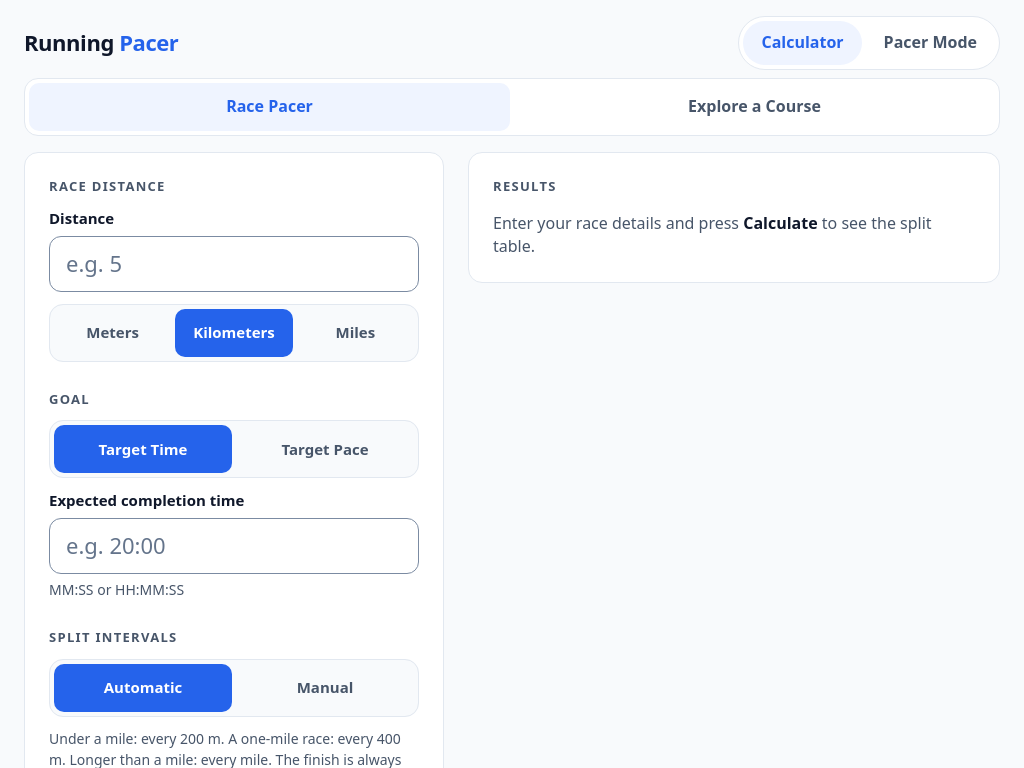
before a race has been calculated › 'Go to calculator' takes you back
Click the button "Pacer Mode": x=930, y=43 [866,21,995,65]
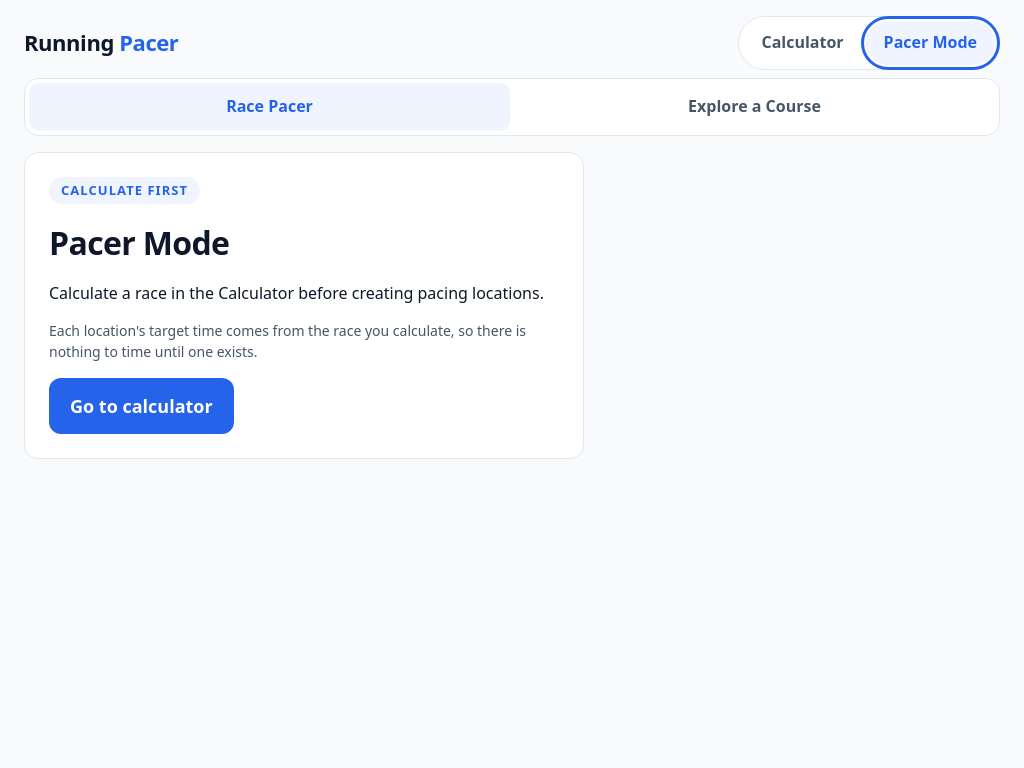
Click the button "Go to calculator": x=141, y=406 [49,378,234,434]
(page scrolled)
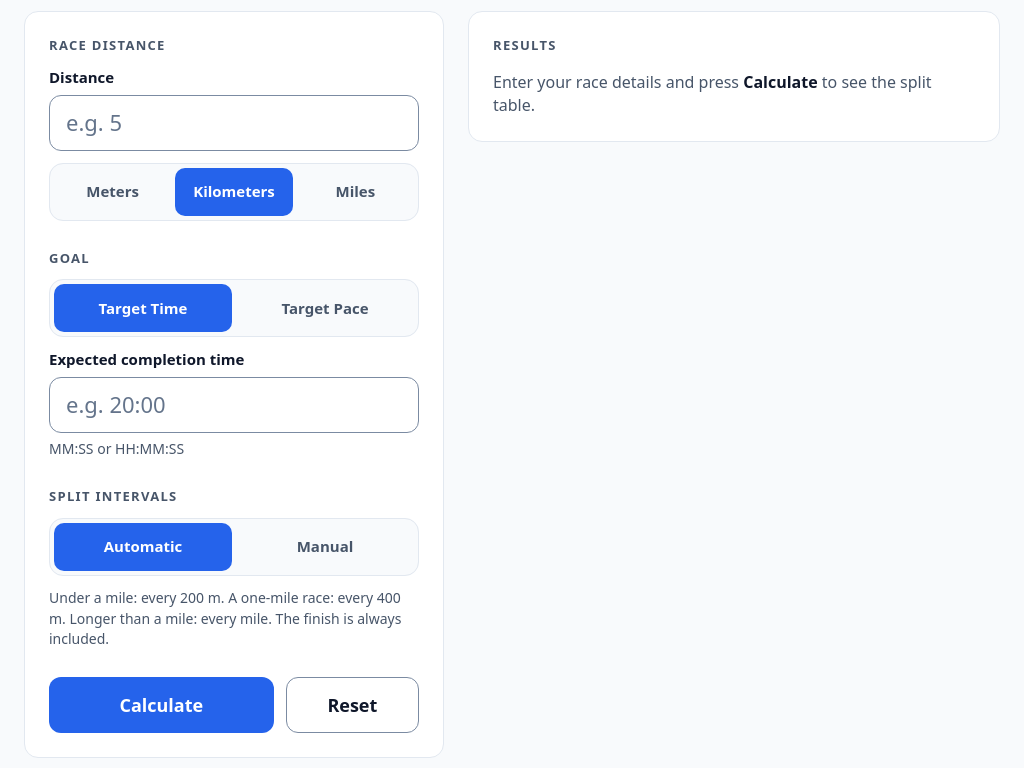
Check: the form named "Race calculator" is shown, box [24,11,444,758]
